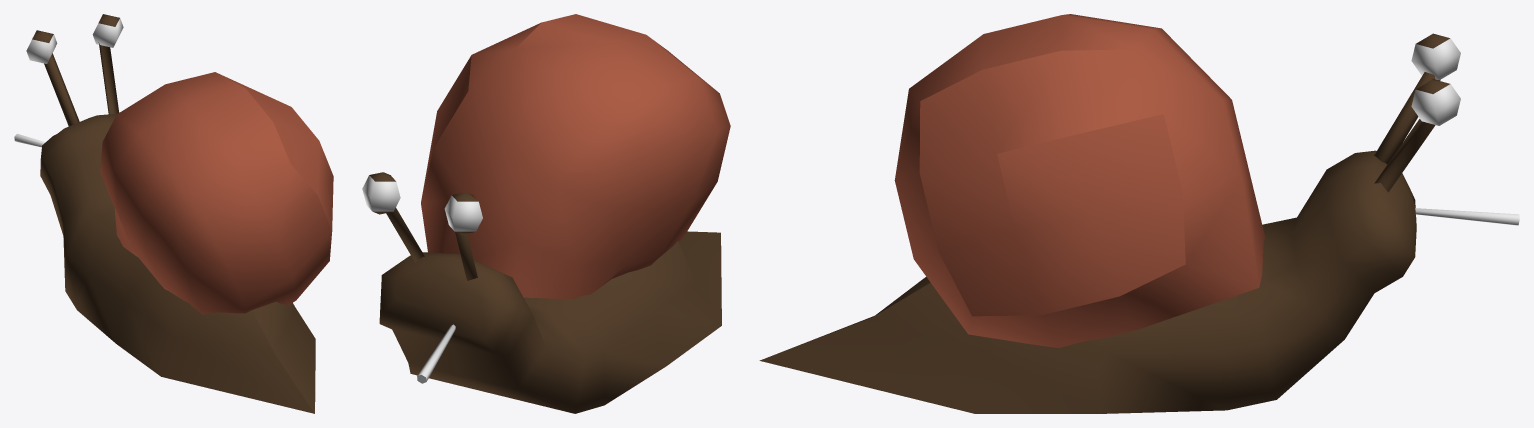
File: tabakslak.glb
3 views of the same model, side by side, from view 1: azimuth 30°, elevation 25°; view 2: azimuth 150°, elevation 25°; view 3: azimuth 270°, elevation 25° (orthographic). The views are drawn at different scales.
Parts seen in each view (by area): view 1: slakkenhuis, slak, oogstok.001, oogstok, oog.001, oog; view 2: slakkenhuis, slak, oog, oog.001, oogstok, sjekie, oogstok.001; view 3: slakkenhuis, slak, oog, oog.001, oogstok, oogstok.001, sjekie.
Part boxes in pixels (x1=…): slakkenhuis: x1=100, y1=72, x2=333, y2=314; slak: x1=40, y1=113, x2=315, y2=413; oogstok.001: x1=44, y1=53, x2=79, y2=126; oogstok: x1=98, y1=42, x2=119, y2=114; oog.001: x1=26, y1=30, x2=57, y2=63; oog: x1=92, y1=14, x2=123, y2=47; slakkenhuis: x1=421, y1=14, x2=730, y2=299; slak: x1=379, y1=231, x2=721, y2=413; oog: x1=362, y1=172, x2=400, y2=214; oog.001: x1=444, y1=192, x2=482, y2=234; oogstok: x1=386, y1=208, x2=427, y2=262; sjekie: x1=417, y1=324, x2=455, y2=383; oogstok.001: x1=455, y1=232, x2=477, y2=280; slakkenhuis: x1=894, y1=14, x2=1265, y2=347; slak: x1=759, y1=150, x2=1416, y2=413; oog: x1=1411, y1=79, x2=1460, y2=125; oog.001: x1=1411, y1=33, x2=1460, y2=80; oogstok: x1=1374, y1=119, x2=1435, y2=192; oogstok.001: x1=1374, y1=72, x2=1440, y2=164; sjekie: x1=1415, y1=208, x2=1519, y2=225.
Bounding box in the file's own units: 1.76 × 2.06 × 4.23.
